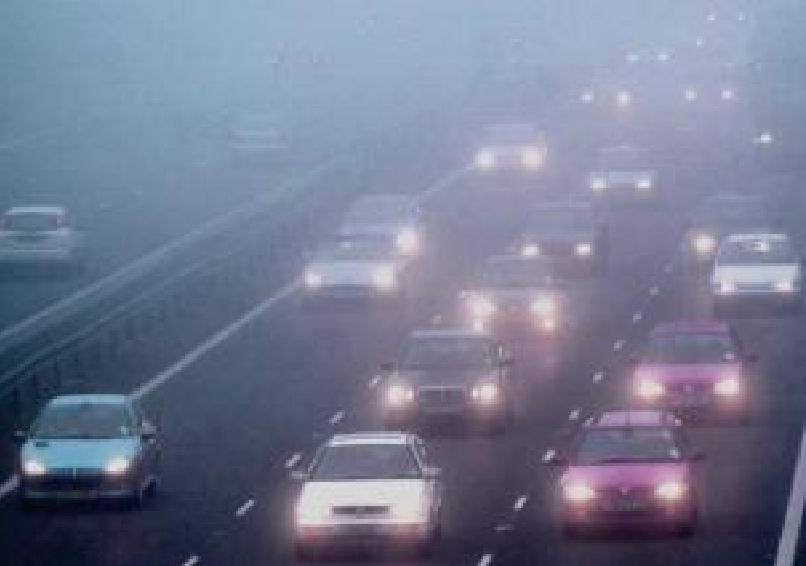car: (283, 428, 449, 562), (548, 408, 706, 536), (15, 392, 164, 507), (373, 322, 513, 433), (625, 315, 758, 429), (456, 252, 575, 343), (295, 224, 417, 304), (684, 191, 784, 274), (706, 232, 805, 315), (333, 188, 443, 262), (517, 201, 613, 279), (1, 201, 87, 278), (471, 120, 558, 186), (582, 144, 663, 207), (230, 111, 302, 167)
